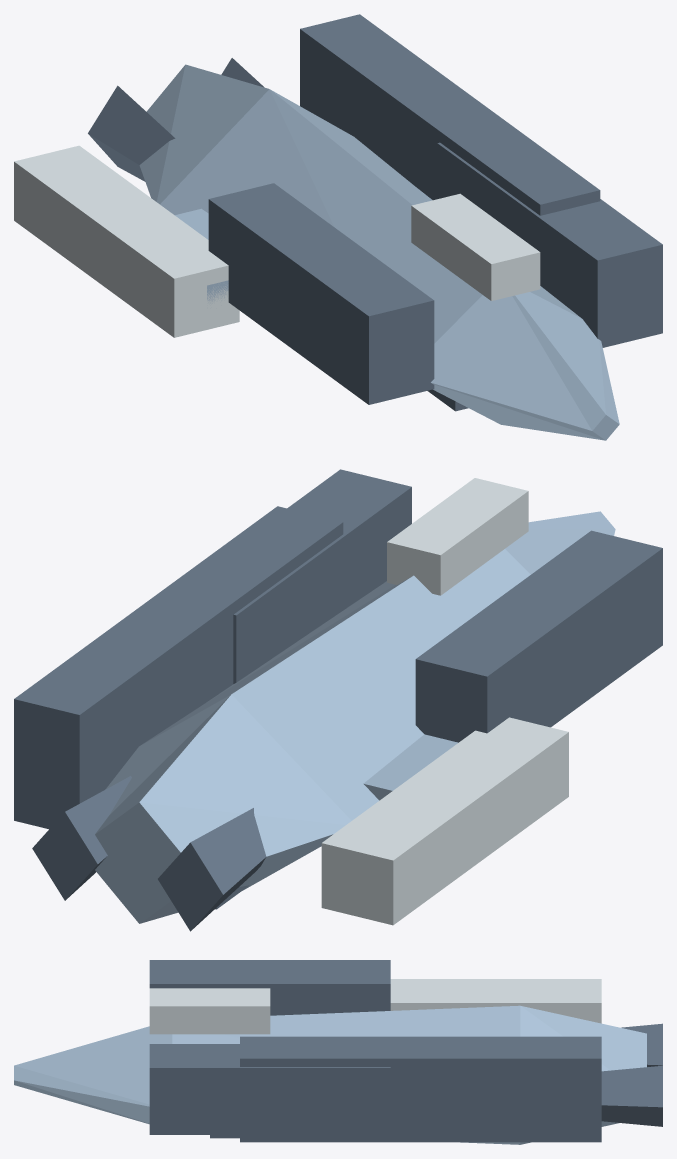
The picture shows the model from 3 angles, top to bottom: view 1: azimuth 30°, elevation 25°; view 2: azimuth 150°, elevation 25°; view 3: azimuth 270°, elevation 25°; orthographic projection. The views are drawn at different scales.
Bounding box in the file's own units: 2.15 × 1.16 × 4.61.
